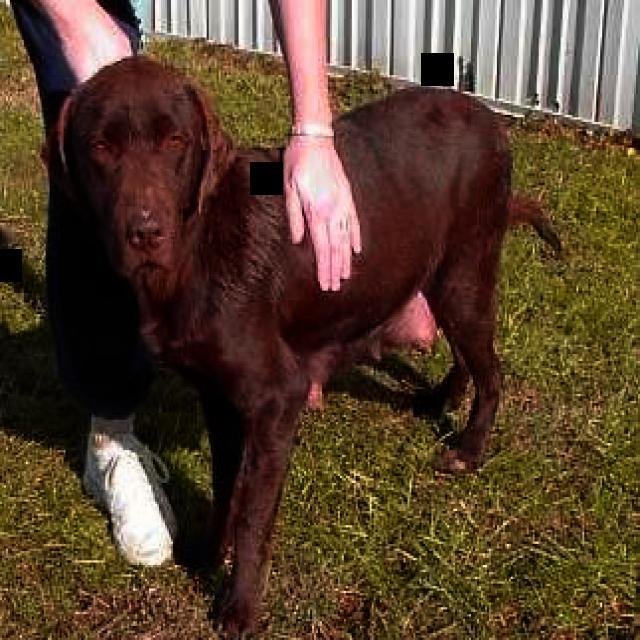adult_dog: (57, 58, 564, 632)
